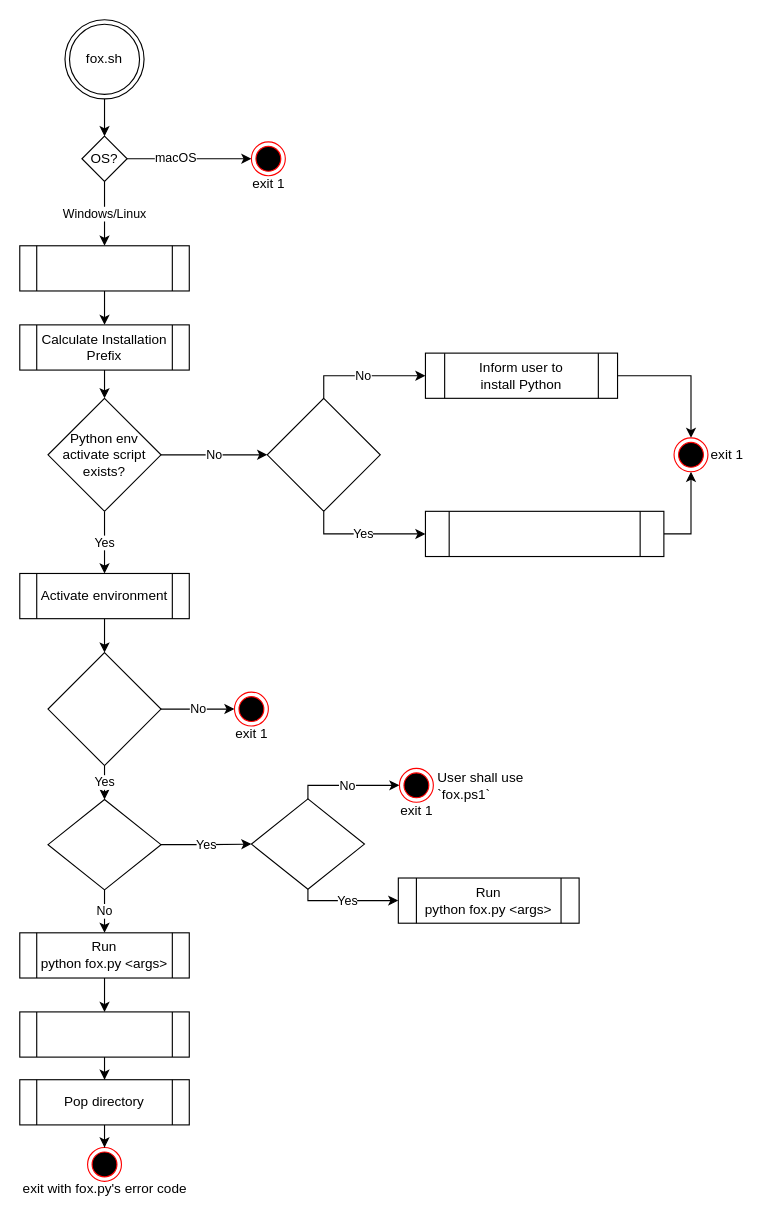
This 763x1217 diagram has some shape labels left out. Each missing label, with the box of its shape:
Base python installation exists?: (266, 397, 380, 511)
Deactivate environment: (19, 1011, 189, 1057)
Push into repository root: (19, 245, 189, 291)
Python executeable exists?: (47, 651, 161, 766)
Require std streams?: (250, 798, 364, 889)
Run setup script ./cli/helpers/python_setup.py: (424, 510, 664, 557)
Windows && GUI mode?: (47, 798, 161, 890)
